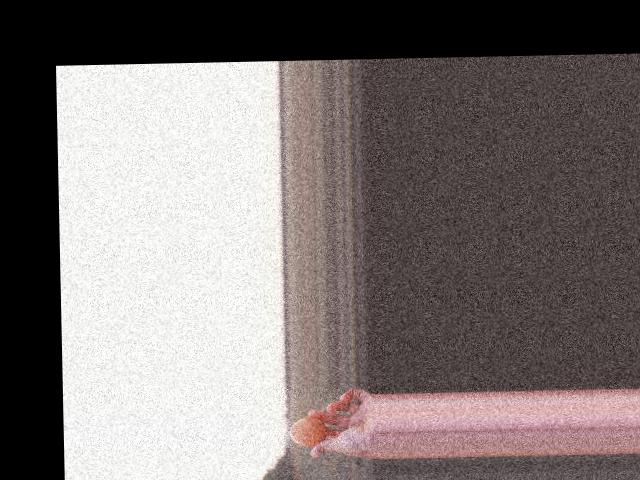egg: (289, 416, 326, 446)
